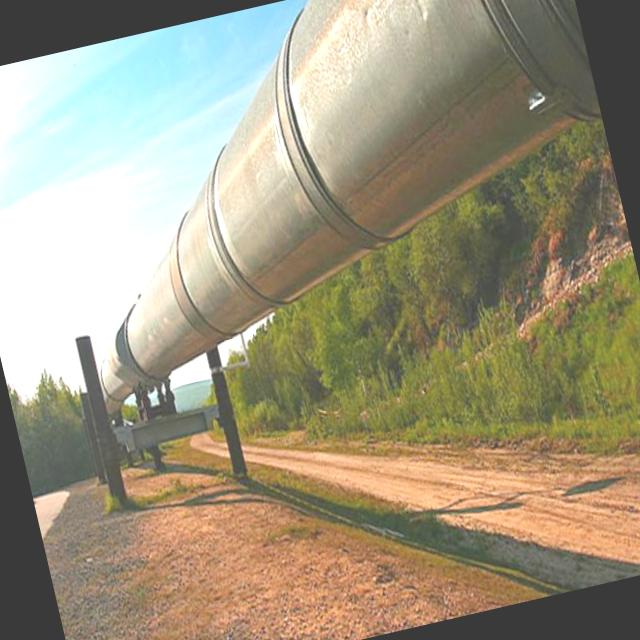gas: (100, 0, 601, 412)
